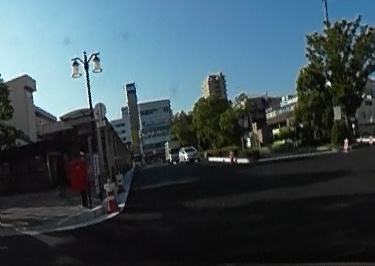person: (54, 155, 68, 197)
